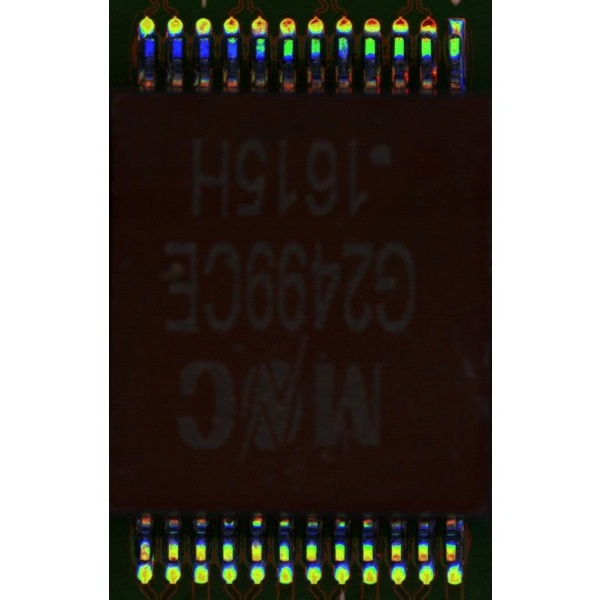Bad_podu: (450, 29, 460, 43)
